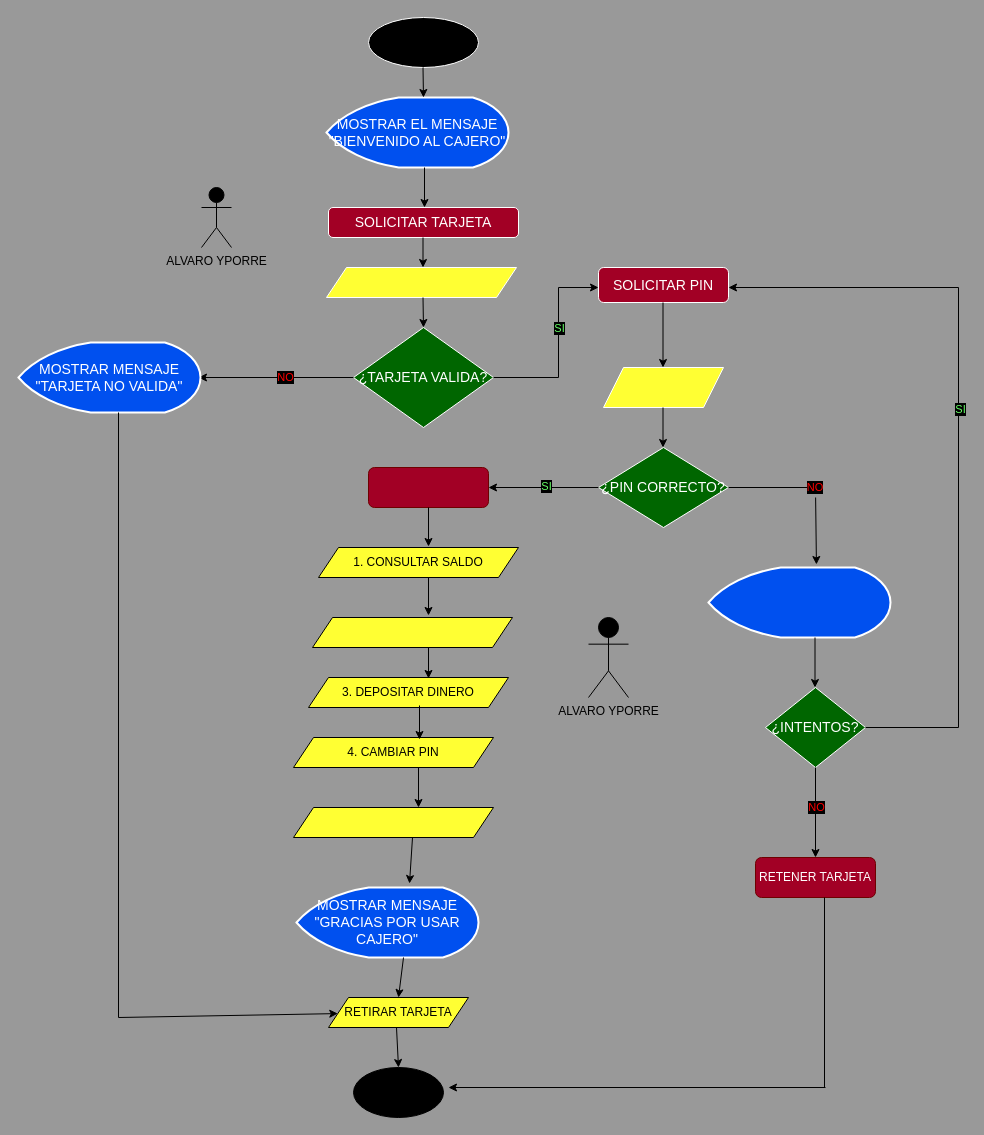
Image size: 984x1135. Some labels were removed from this diagram. The centre of each missing label's shape, as x and y in pixels:
2. RETIRAR DINERO: point 412,632
5. SALIR: point 393,822
FIN: point 398,1092
INGRESAR PIN: point 663,387
INICIO: point 423,42
INSERTAR TARJETA: point 421,282
MOSTRAR MENSAJE "PIN CORRECTO": point 799,602
MOSTRAR MENÚ: point 428,487
